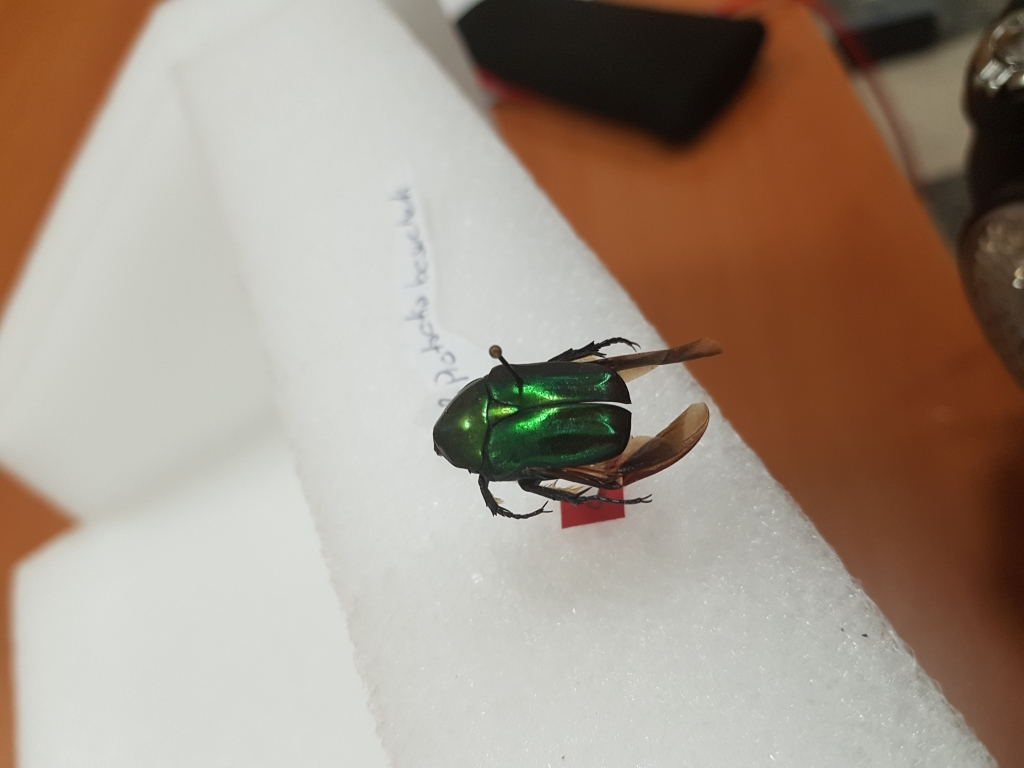Protaetia_besucheti: (433, 331, 729, 518)
